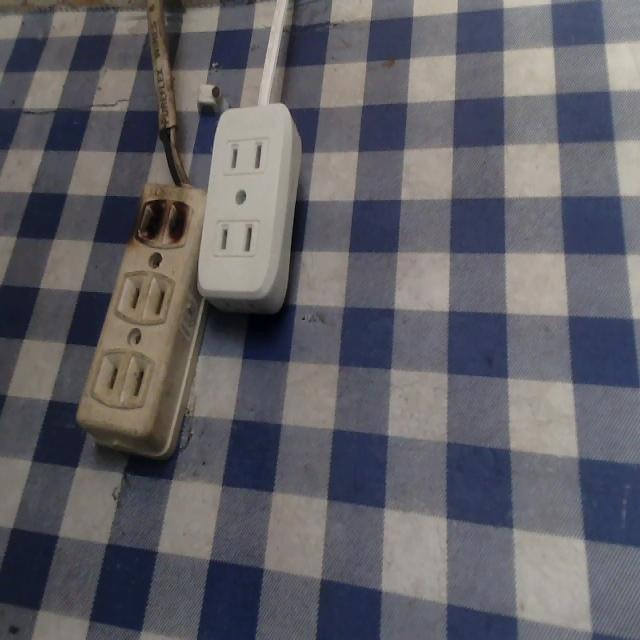-: (132, 189, 196, 248)
